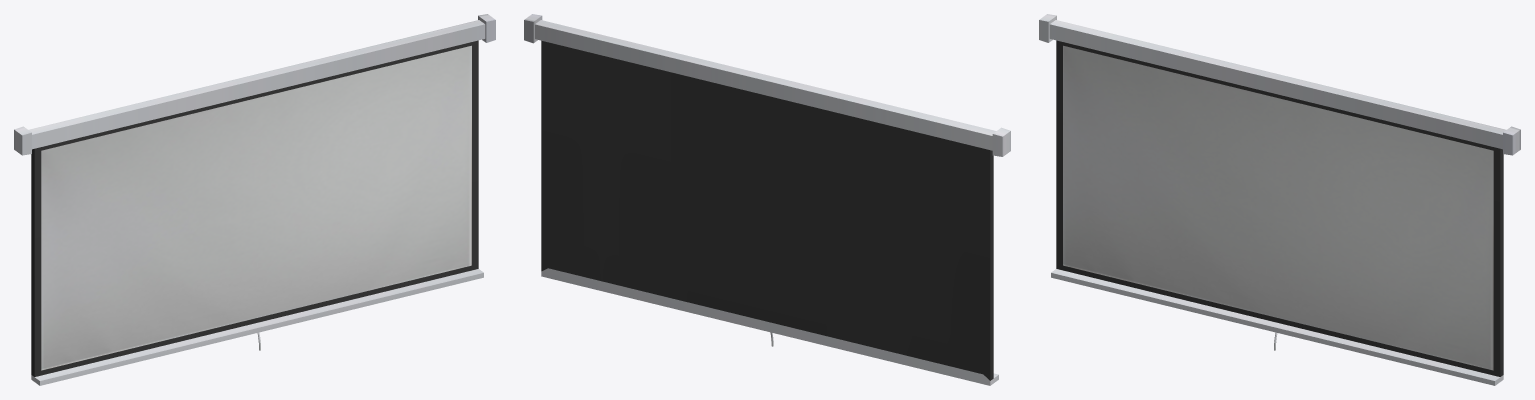
3 renders of one model, left to right at view 1: azimuth 30°, elevation 25°; view 2: azimuth 150°, elevation 25°; view 3: azimuth 330°, elevation 25°, orthographic.
Parts seen in each view (by area): view 1: Projector Screen_Material #27_0; view 2: Projector Screen_Material #27_0; view 3: Projector Screen_Material #27_0.
Part boxes in pixels (left/top/right/bottom): Projector Screen_Material #27_0: left=14, top=14, right=495, bottom=385; Projector Screen_Material #27_0: left=524, top=14, right=1010, bottom=385; Projector Screen_Material #27_0: left=1039, top=14, right=1520, bottom=385.
Bounding box in the file's own units: 194 × 107 × 8.02.
Materials: 1 (1 with a texture image).
